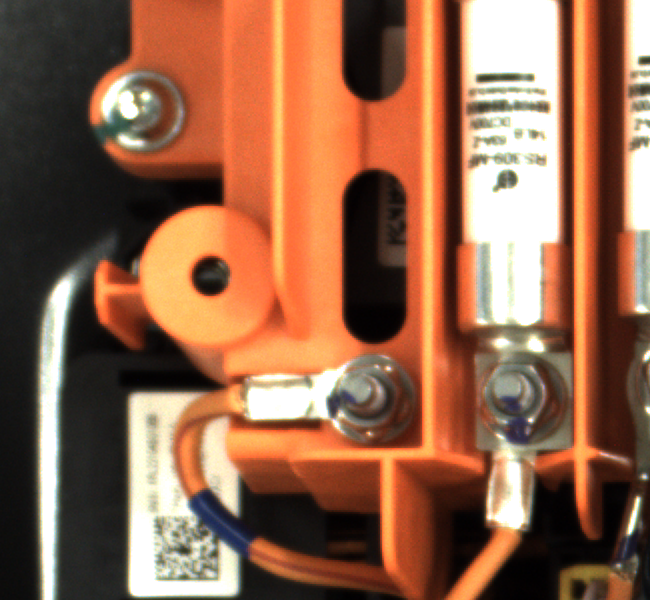screw_m: (97, 68, 194, 159)
screw_s: (313, 346, 423, 444), (462, 348, 565, 442)
